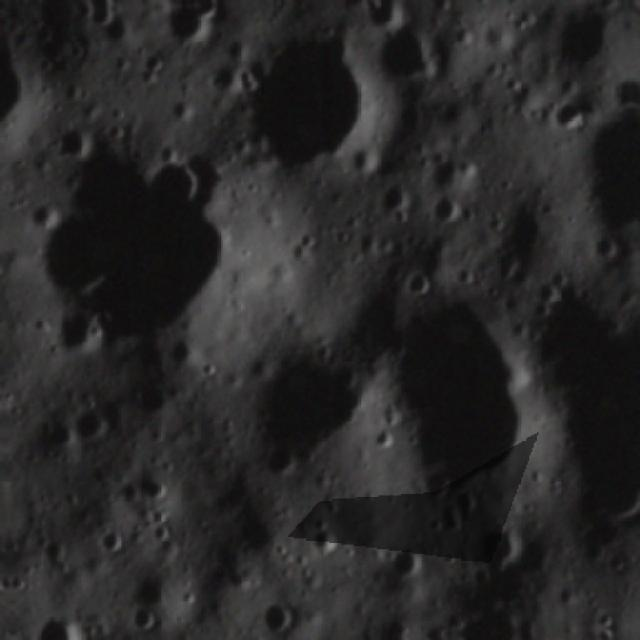crater: (25, 144, 237, 358), (509, 271, 640, 547), (369, 292, 536, 506), (223, 14, 389, 181), (250, 326, 384, 491), (557, 98, 637, 245), (538, 0, 628, 88), (0, 12, 49, 137), (370, 14, 448, 84), (150, 3, 228, 49), (70, 390, 116, 450), (421, 144, 477, 193), (234, 508, 286, 560), (471, 523, 527, 569), (424, 187, 470, 235), (32, 412, 78, 458), (261, 594, 305, 640), (376, 172, 418, 220), (23, 607, 84, 640), (383, 538, 425, 584), (353, 0, 413, 31), (304, 520, 348, 562), (75, 7, 130, 39), (94, 518, 128, 556), (138, 472, 170, 508), (129, 604, 160, 634)
